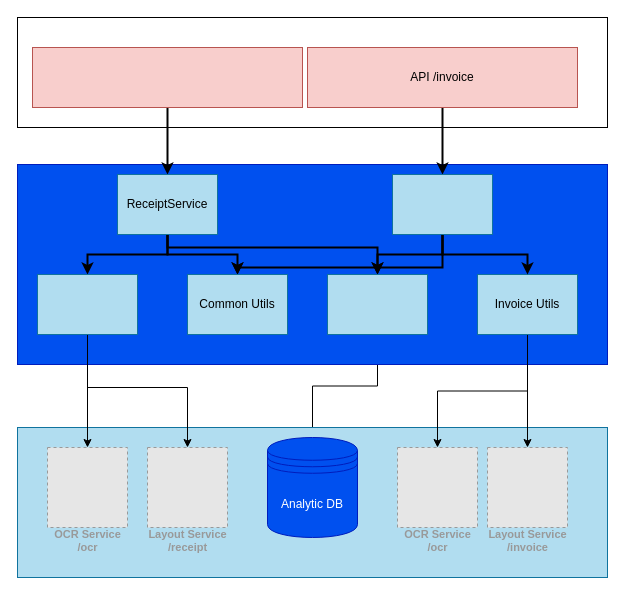
The diagram is 625 pixels wide and 595 high, and some of its shapes have lost their labels. Grey dashed boxes stand in for pictures. The centre of each missing label's shape, as x and y in pixels:
API /receipt: the point at 167,77
DB Utils: the point at 377,304
InvoiceService: the point at 442,204
Receipt Utils: the point at 87,304
